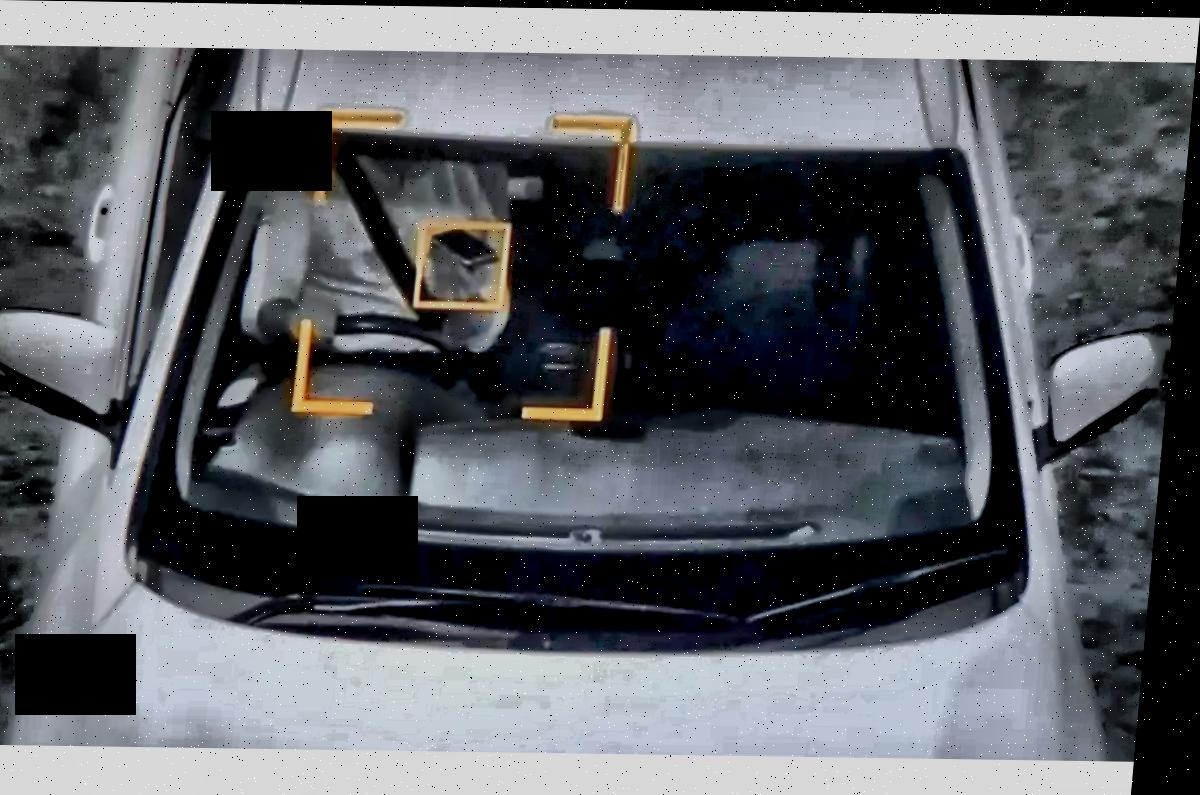seatbelt: (306, 144, 474, 343)
